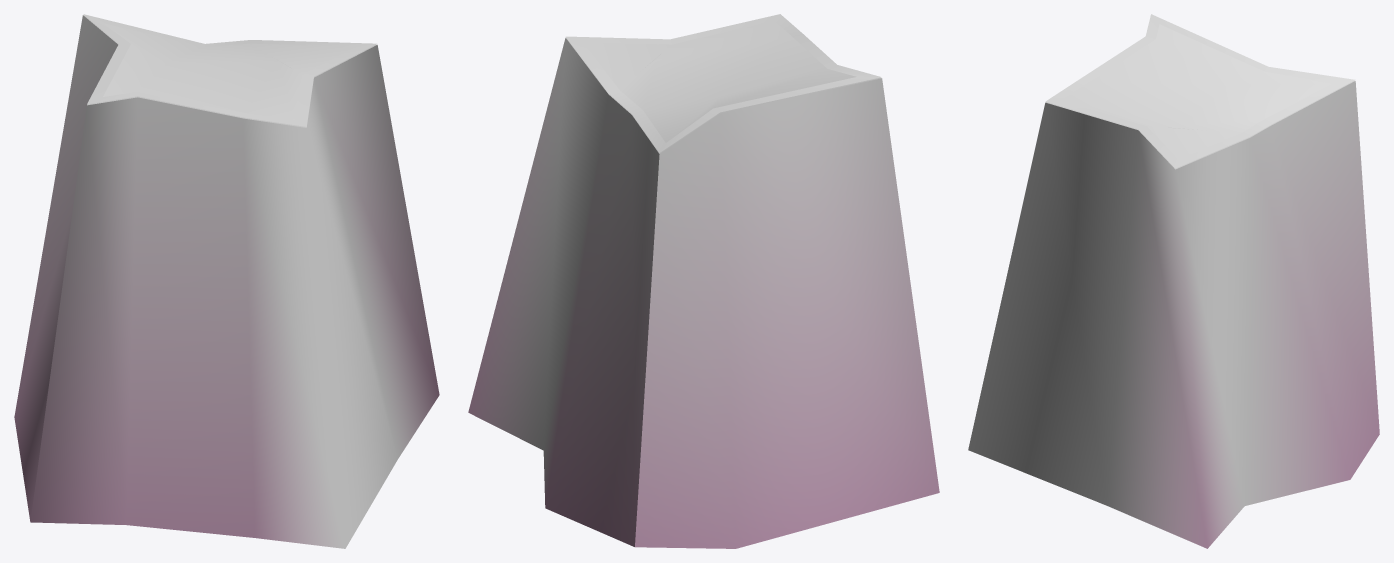
The model's file is BeackRock_03.fbx.
3 renders of one model, left to right at view 1: azimuth 30°, elevation 25°; view 2: azimuth 150°, elevation 25°; view 3: azimuth 270°, elevation 25°, orthographic. The views are drawn at different scales.
Visible parts, largest first — view 1: Rock.002, SandTopper.002; view 2: Rock.002, SandTopper.002; view 3: Rock.002, SandTopper.002.
Boxes of the visible parts, <box> form: Rock.002: <box>14,15,439,548</box>; SandTopper.002: <box>83,14,376,126</box>; Rock.002: <box>468,37,939,548</box>; SandTopper.002: <box>566,14,881,152</box>; Rock.002: <box>968,80,1379,548</box>; SandTopper.002: <box>1045,14,1355,168</box>.
Size of the model in its own units: 1477 by 1306 by 1327.
